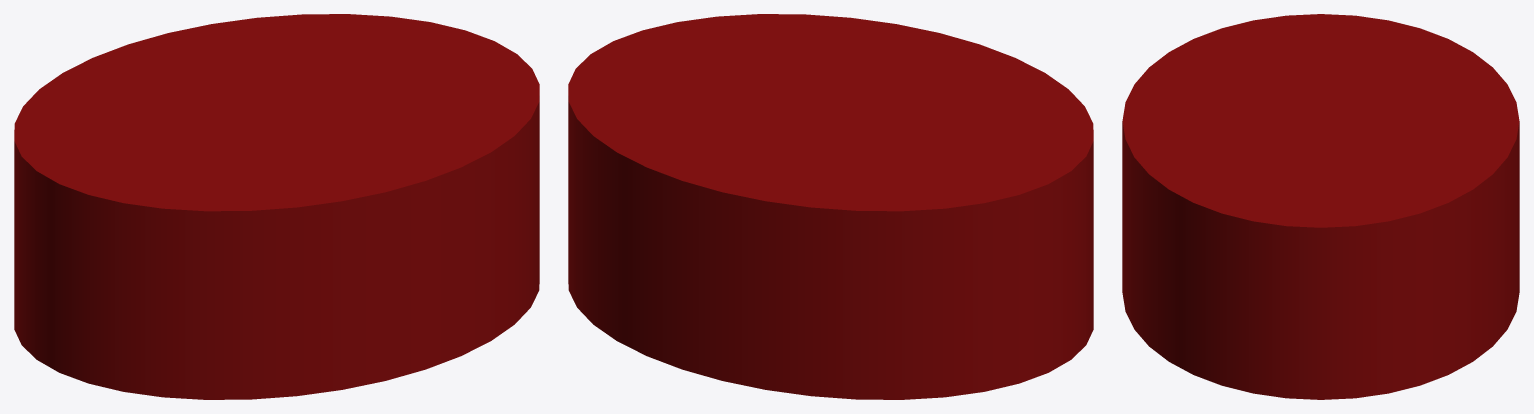
The model's file is red.FBX.
The picture shows the model from 3 angles, left to right: view 1: azimuth 30°, elevation 25°; view 2: azimuth 150°, elevation 25°; view 3: azimuth 270°, elevation 25°; orthographic projection. The views are drawn at different scales.
Visible parts, largest first — view 1: Cylinder001; view 2: Cylinder001; view 3: Cylinder001.
Boxes of the visible parts, x1=… form: Cylinder001: x1=14, y1=14, x2=539, y2=399; Cylinder001: x1=568, y1=14, x2=1093, y2=399; Cylinder001: x1=1122, y1=14, x2=1519, y2=399.
Size of the model in its own units: 40 by 15.02 by 31.39.
